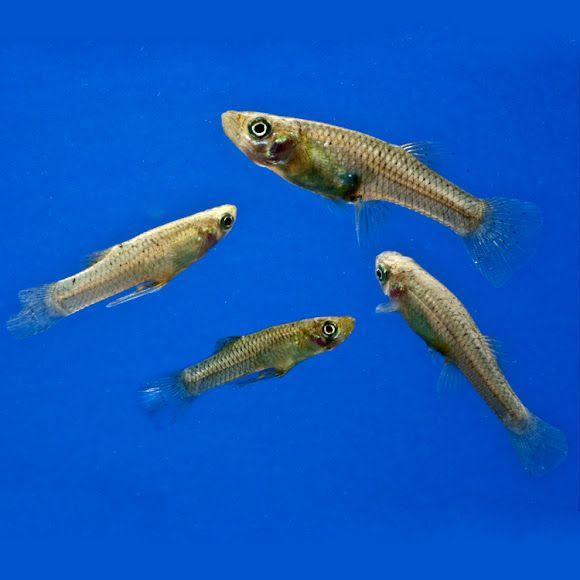Mosquito Fish: (222, 97, 547, 273), (375, 249, 580, 473), (9, 193, 235, 326), (142, 303, 357, 429)
